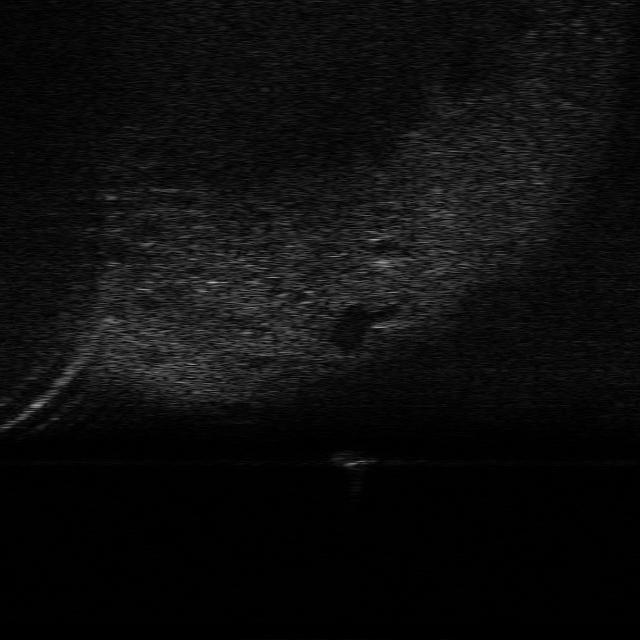cube: (325, 446, 380, 471)
